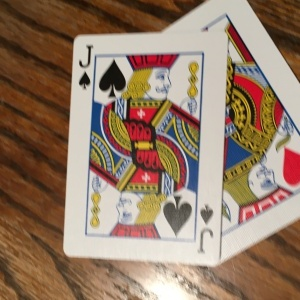card: (63, 35, 225, 265)
